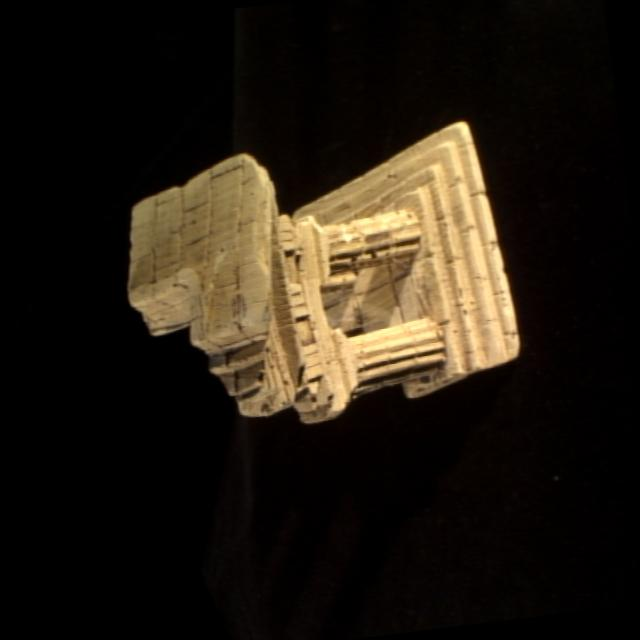Instance-Segmentation: (129, 121, 519, 422)
